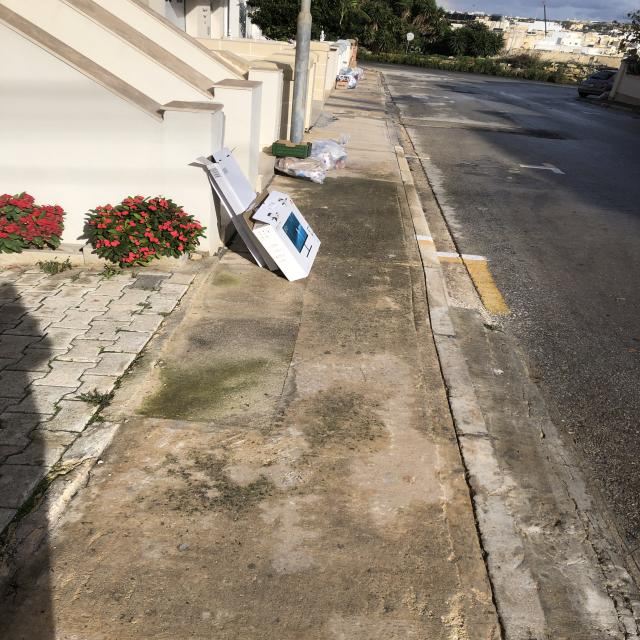Organic Waste -White Bag-: (275, 139, 353, 177)
Other: (208, 158, 334, 286)
